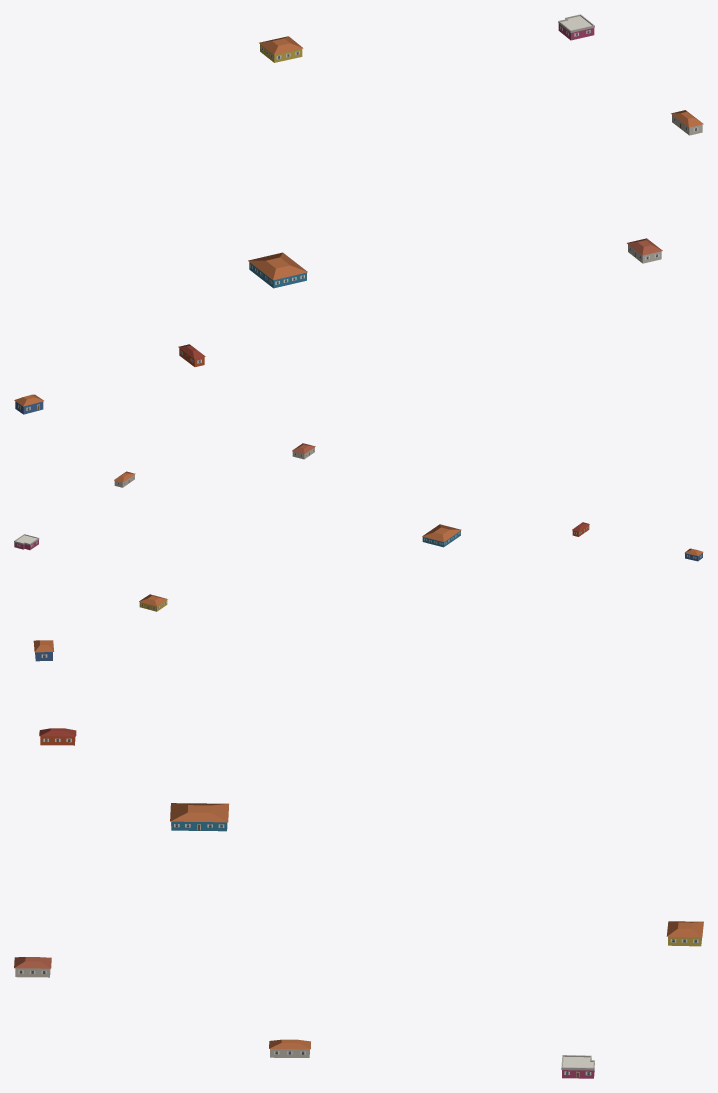
The model's file is msb_noord_m20_m5.glb.
The picture shows the model from 3 angles, top to bottom: view 1: azimuth 30°, elevation 25°; view 2: azimuth 150°, elevation 25°; view 3: azimuth 270°, elevation 25°; orthographic projection. The views are drawn at different scales.
Visible parts, largest first — view 1: msb_noord_m20_m5_lod0; view 2: msb_noord_m20_m5_lod0; view 3: msb_noord_m20_m5_lod0.
Boxes of the visible parts, x1,y1,x2,y2 form: msb_noord_m20_m5_lod0: (14,14,703,414); msb_noord_m20_m5_lod0: (14,443,703,611); msb_noord_m20_m5_lod0: (14,640,703,1078).
Size of what is drawn, in the model's own units: 346 by 9.55 by 232.
3 materials, 1 textured.
